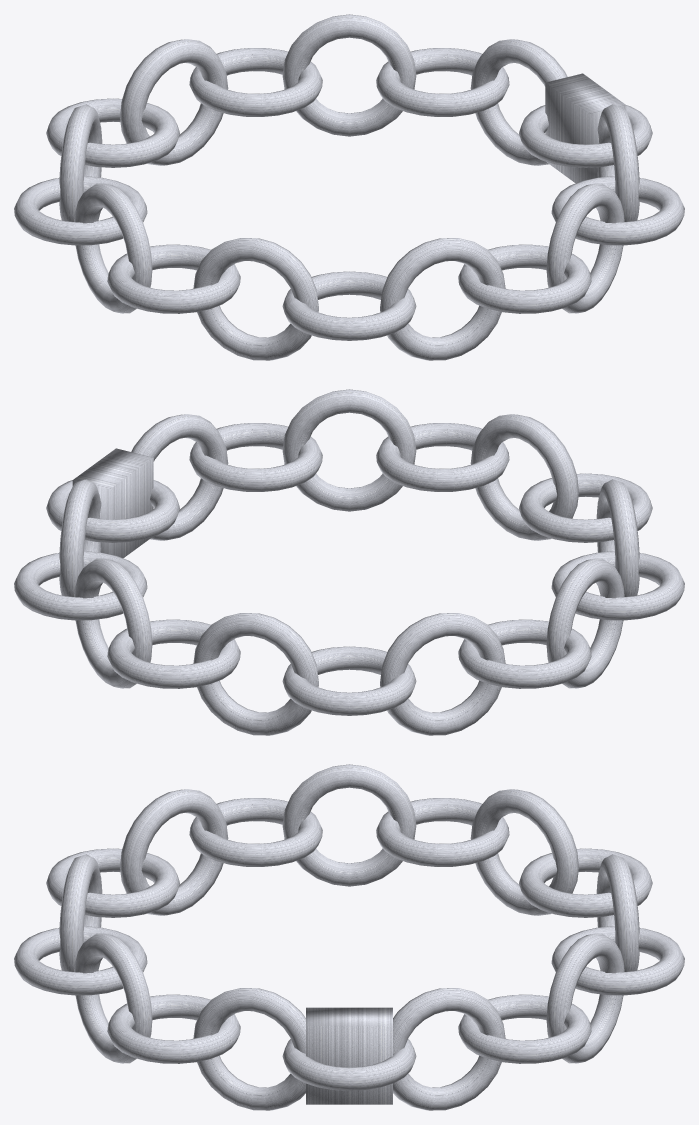
Rendered from bracelet.glb.
3 views of the same model, one above another, from view 1: azimuth 30°, elevation 25°; view 2: azimuth 150°, elevation 25°; view 3: azimuth 270°, elevation 25° (orthographic).
Parts seen in each view (by area): view 1: Torus.015, Torus.017, Torus.007, Torus.009, Torus.016, Torus.006, Torus.008, Torus.014, Torus.018, Torus.013, Torus.019, Torus.010 (+7 smaller); view 2: Torus.009, Torus.011, Torus.019, Torus.017, Torus.010, Torus.018, Torus.020, Torus.008, Torus.012, Torus.007, Torus.013, Torus.016 (+7 smaller); view 3: Torus.013, Cube, Torus.005, Torus.021, Torus.011, Torus.015, Torus.012, Torus.014, Torus.006, Torus.020, Torus.007, Torus.019 (+7 smaller).
Part boxes in pixels (bbox=[...]): Torus.015: bbox=[193, 238, 318, 360]; Torus.017: bbox=[380, 238, 505, 360]; Torus.007: bbox=[282, 14, 416, 136]; Torus.009: bbox=[120, 39, 228, 165]; Torus.016: bbox=[282, 271, 416, 340]; Torus.006: bbox=[376, 48, 509, 116]; Torus.008: bbox=[189, 48, 322, 116]; Torus.014: bbox=[107, 244, 240, 313]; Torus.018: bbox=[458, 244, 591, 313]; Torus.013: bbox=[74, 183, 152, 313]; Torus.019: bbox=[546, 183, 624, 313]; Torus.010: bbox=[46, 98, 179, 167]; Torus.009: bbox=[193, 613, 318, 735]; Torus.011: bbox=[380, 613, 505, 735]; Torus.019: bbox=[282, 389, 416, 511]; Torus.017: bbox=[470, 414, 578, 540]; Torus.010: bbox=[282, 646, 416, 715]; Torus.018: bbox=[376, 423, 509, 491]; Torus.020: bbox=[189, 423, 322, 491]; Torus.008: bbox=[107, 619, 240, 688]; Torus.012: bbox=[458, 619, 591, 688]; Torus.007: bbox=[74, 558, 152, 688]; Torus.013: bbox=[546, 558, 624, 688]; Torus.016: bbox=[519, 473, 652, 542]; Torus.013: bbox=[282, 764, 416, 886]; Cube: bbox=[306, 1007, 392, 1104]; Torus.005: bbox=[393, 988, 505, 1110]; Torus.021: bbox=[193, 988, 305, 1110]; Torus.011: bbox=[470, 789, 578, 915]; Torus.015: bbox=[120, 789, 228, 915]; Torus.012: bbox=[376, 798, 509, 866]; Torus.014: bbox=[189, 798, 322, 866]; Torus.006: bbox=[458, 994, 591, 1063]; Torus.020: bbox=[107, 994, 240, 1063]; Torus.007: bbox=[546, 933, 624, 1063]; Torus.019: bbox=[74, 933, 152, 1063].
Bounding box in the file's own units: 2.67 × 0.54 × 2.7.
1 material, 1 textured.
